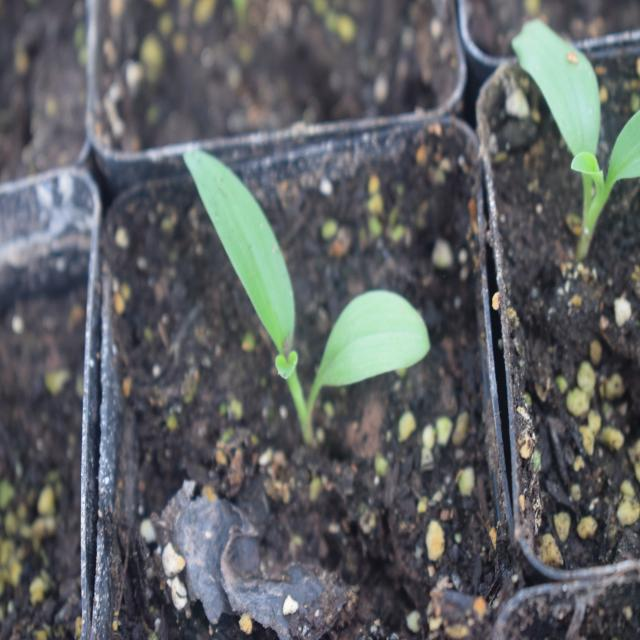Common Dayflower: (185, 151, 428, 446)
